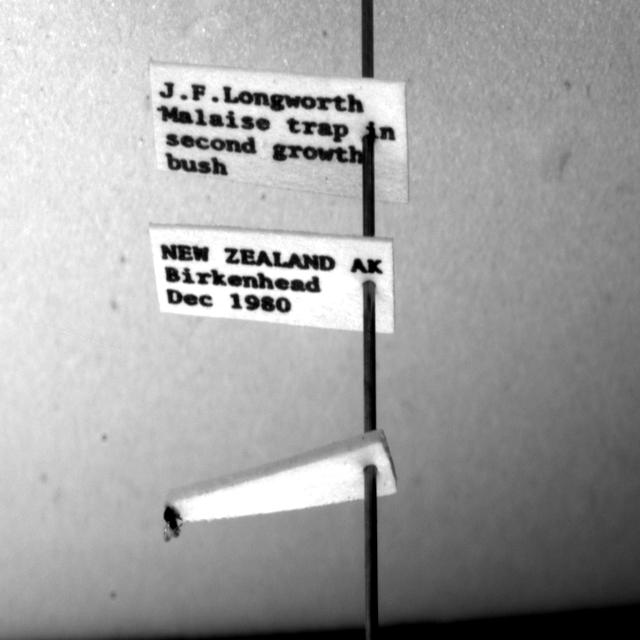typed_label: (150, 62, 409, 202), (150, 225, 394, 334)
